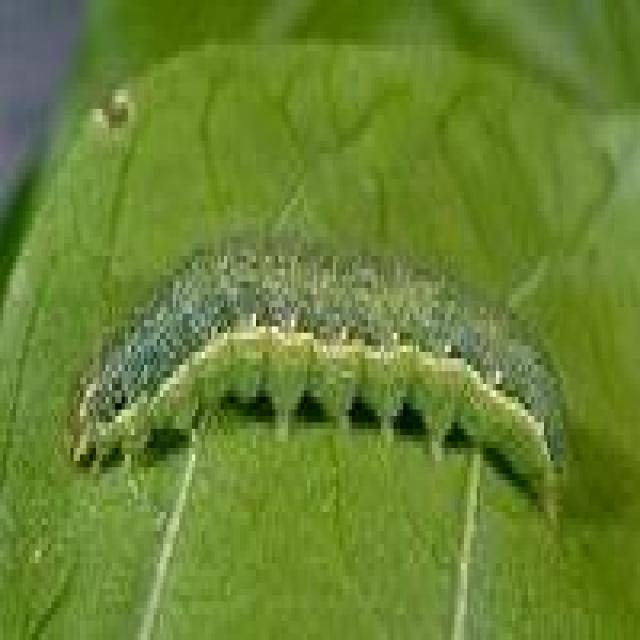armyworm: (66, 226, 574, 501)
